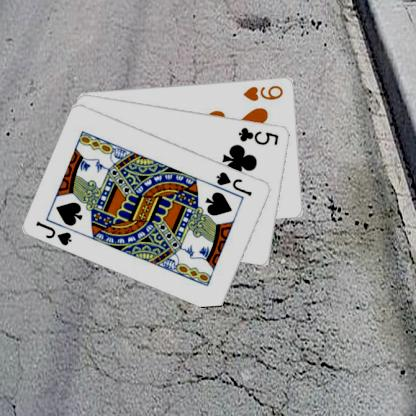5C: (236, 124, 281, 146)
9H: (241, 82, 285, 102)
JS: (34, 218, 73, 247), (214, 169, 253, 197)
